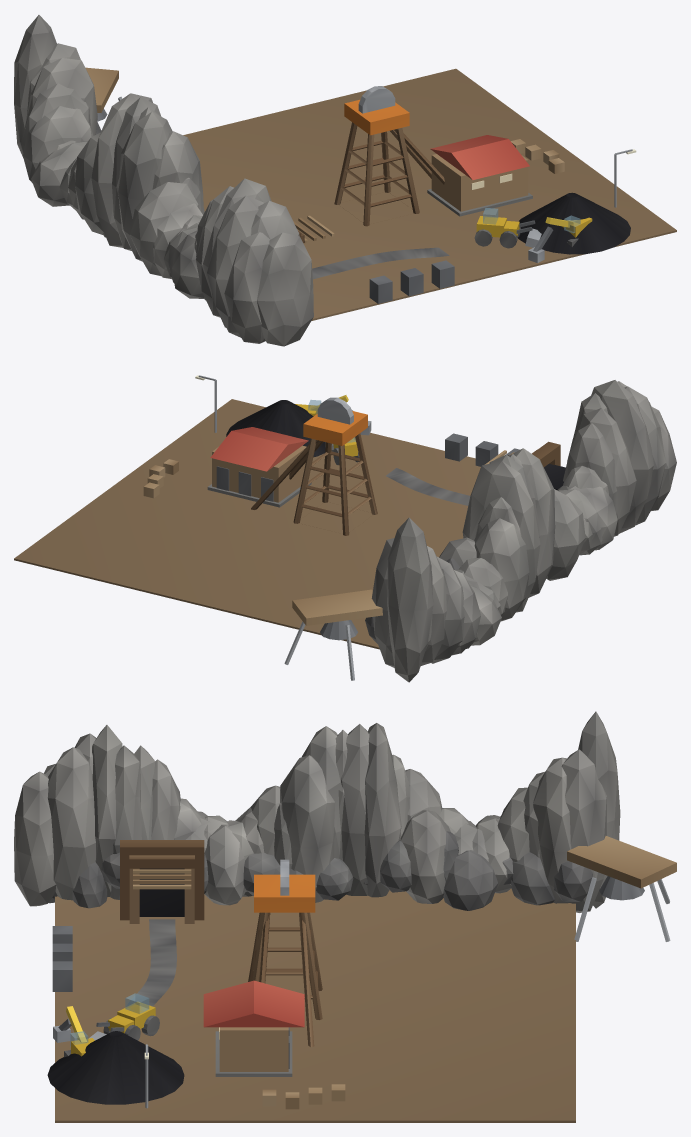
The model's file is Mine_P1.fbx.
3 views of the same model, one above another, from view 1: azimuth 30°, elevation 25°; view 2: azimuth 150°, elevation 25°; view 3: azimuth 270°, elevation 25° (orthographic). The views are drawn at different scales.
Parts seen in each view (by area): view 1: Mine.Apron, Mine.Cliff, Mine.Winder, Mine.Headframe, Mine.Spoil0, Mine.Clutter, Mine.Loader, Mine.Track0, Mine.Excav, Mine.LoadGantry; view 2: Mine.Apron, Mine.Cliff, Mine.Headframe, Mine.Winder, Mine.LoadGantry, Mine.Spoil0, Mine.Clutter, Mine.Track0, Mine.Adit0; view 3: Mine.Apron, Mine.Cliff, Mine.Winder, Mine.Spoil0, Mine.Adit0, Mine.Headframe, Mine.LoadGantry, Mine.Clutter, Mine.Track0, Mine.Loader, Mine.Excav.
Boxes of the visible parts, bbox=[...] form: Mine.Apron: bbox=[183, 68, 676, 320]; Mine.Cliff: bbox=[14, 15, 313, 346]; Mine.Winder: bbox=[427, 135, 532, 216]; Mine.Headframe: bbox=[334, 86, 444, 226]; Mine.Spoil0: bbox=[518, 192, 630, 254]; Mine.Clutter: bbox=[369, 139, 564, 303]; Mine.Loader: bbox=[474, 208, 541, 248]; Mine.Track0: bbox=[312, 247, 449, 279]; Mine.Excav: bbox=[528, 215, 592, 262]; Mine.LoadGantry: bbox=[85, 67, 122, 121]; Mine.Apron: bbox=[14, 399, 480, 649]; Mine.Cliff: bbox=[365, 380, 676, 682]; Mine.Headframe: bbox=[251, 397, 377, 535]; Mine.Winder: bbox=[207, 427, 311, 507]; Mine.LoadGantry: bbox=[284, 589, 382, 680]; Mine.Spoil0: bbox=[226, 400, 325, 457]; Mine.Clutter: bbox=[143, 433, 519, 498]; Mine.Track0: bbox=[386, 468, 470, 505]; Mine.Adit0: bbox=[480, 441, 565, 489]; Mine.Apron: bbox=[55, 888, 575, 1122]; Mine.Cliff: bbox=[14, 711, 620, 912]; Mine.Winder: bbox=[203, 980, 304, 1076]; Mine.Spoil0: bbox=[47, 1031, 184, 1104]; Mine.Adit0: bbox=[120, 840, 204, 923]; Mine.Headframe: bbox=[248, 859, 322, 1046]; Mine.LoadGantry: bbox=[567, 836, 676, 941]; Mine.Clutter: bbox=[52, 926, 345, 1109]; Mine.Track0: bbox=[126, 919, 176, 1006]; Mine.Loader: bbox=[89, 993, 159, 1040]; Mine.Excav: bbox=[53, 1006, 94, 1057].
Bounding box in the file's own units: 8095 × 2888 × 8651.
